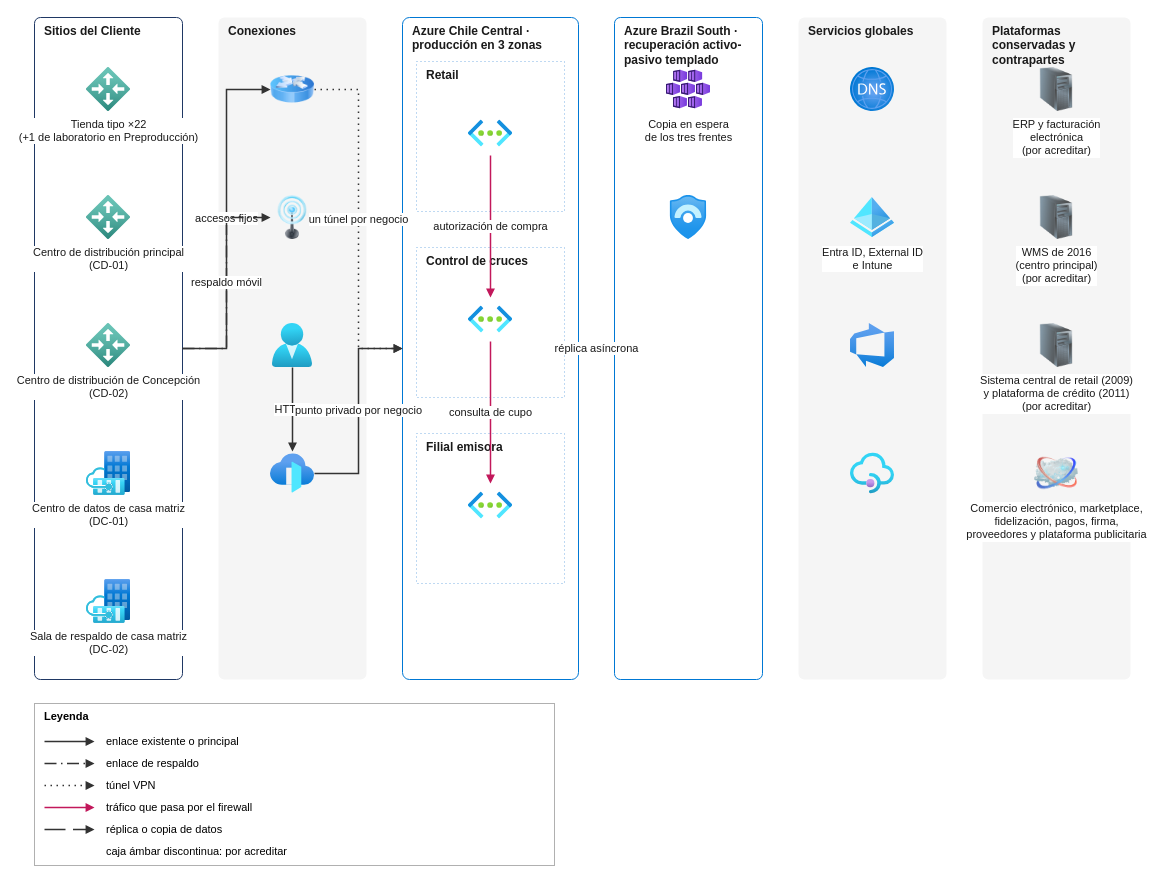
Image size: 1164x883. Some labels were removed from this diagram. Here are the shapes that lost their labels. From the top down, the centre of each, then its label:
At point 292,89: "Operadores fijos A y B (accesos por sitio)".
At point 872,89: "Azure DNS público".
At point 490,133: "Red central, AKS y datos de Retail".
At point 292,217: "Red móvil 4G/5G (respaldo de tiendas y centros)".
At point 688,217: "Microsoft Sentinel ×3 (operación habitual)".
At point 490,319: "Red central, AKS y bitácora del Control de cruces".
At point 292,345: "Clientes y titulares (Internet)".
At point 872,345: "Azure Pipelines (agentes efímeros)".
At point 292,473: "Azure Front Door (perfil de Retail y de la filial)".
At point 872,473: "Azure API Center ×2 (East US)".
At point 490,505: "Red central, AKS y datos de la filial".
